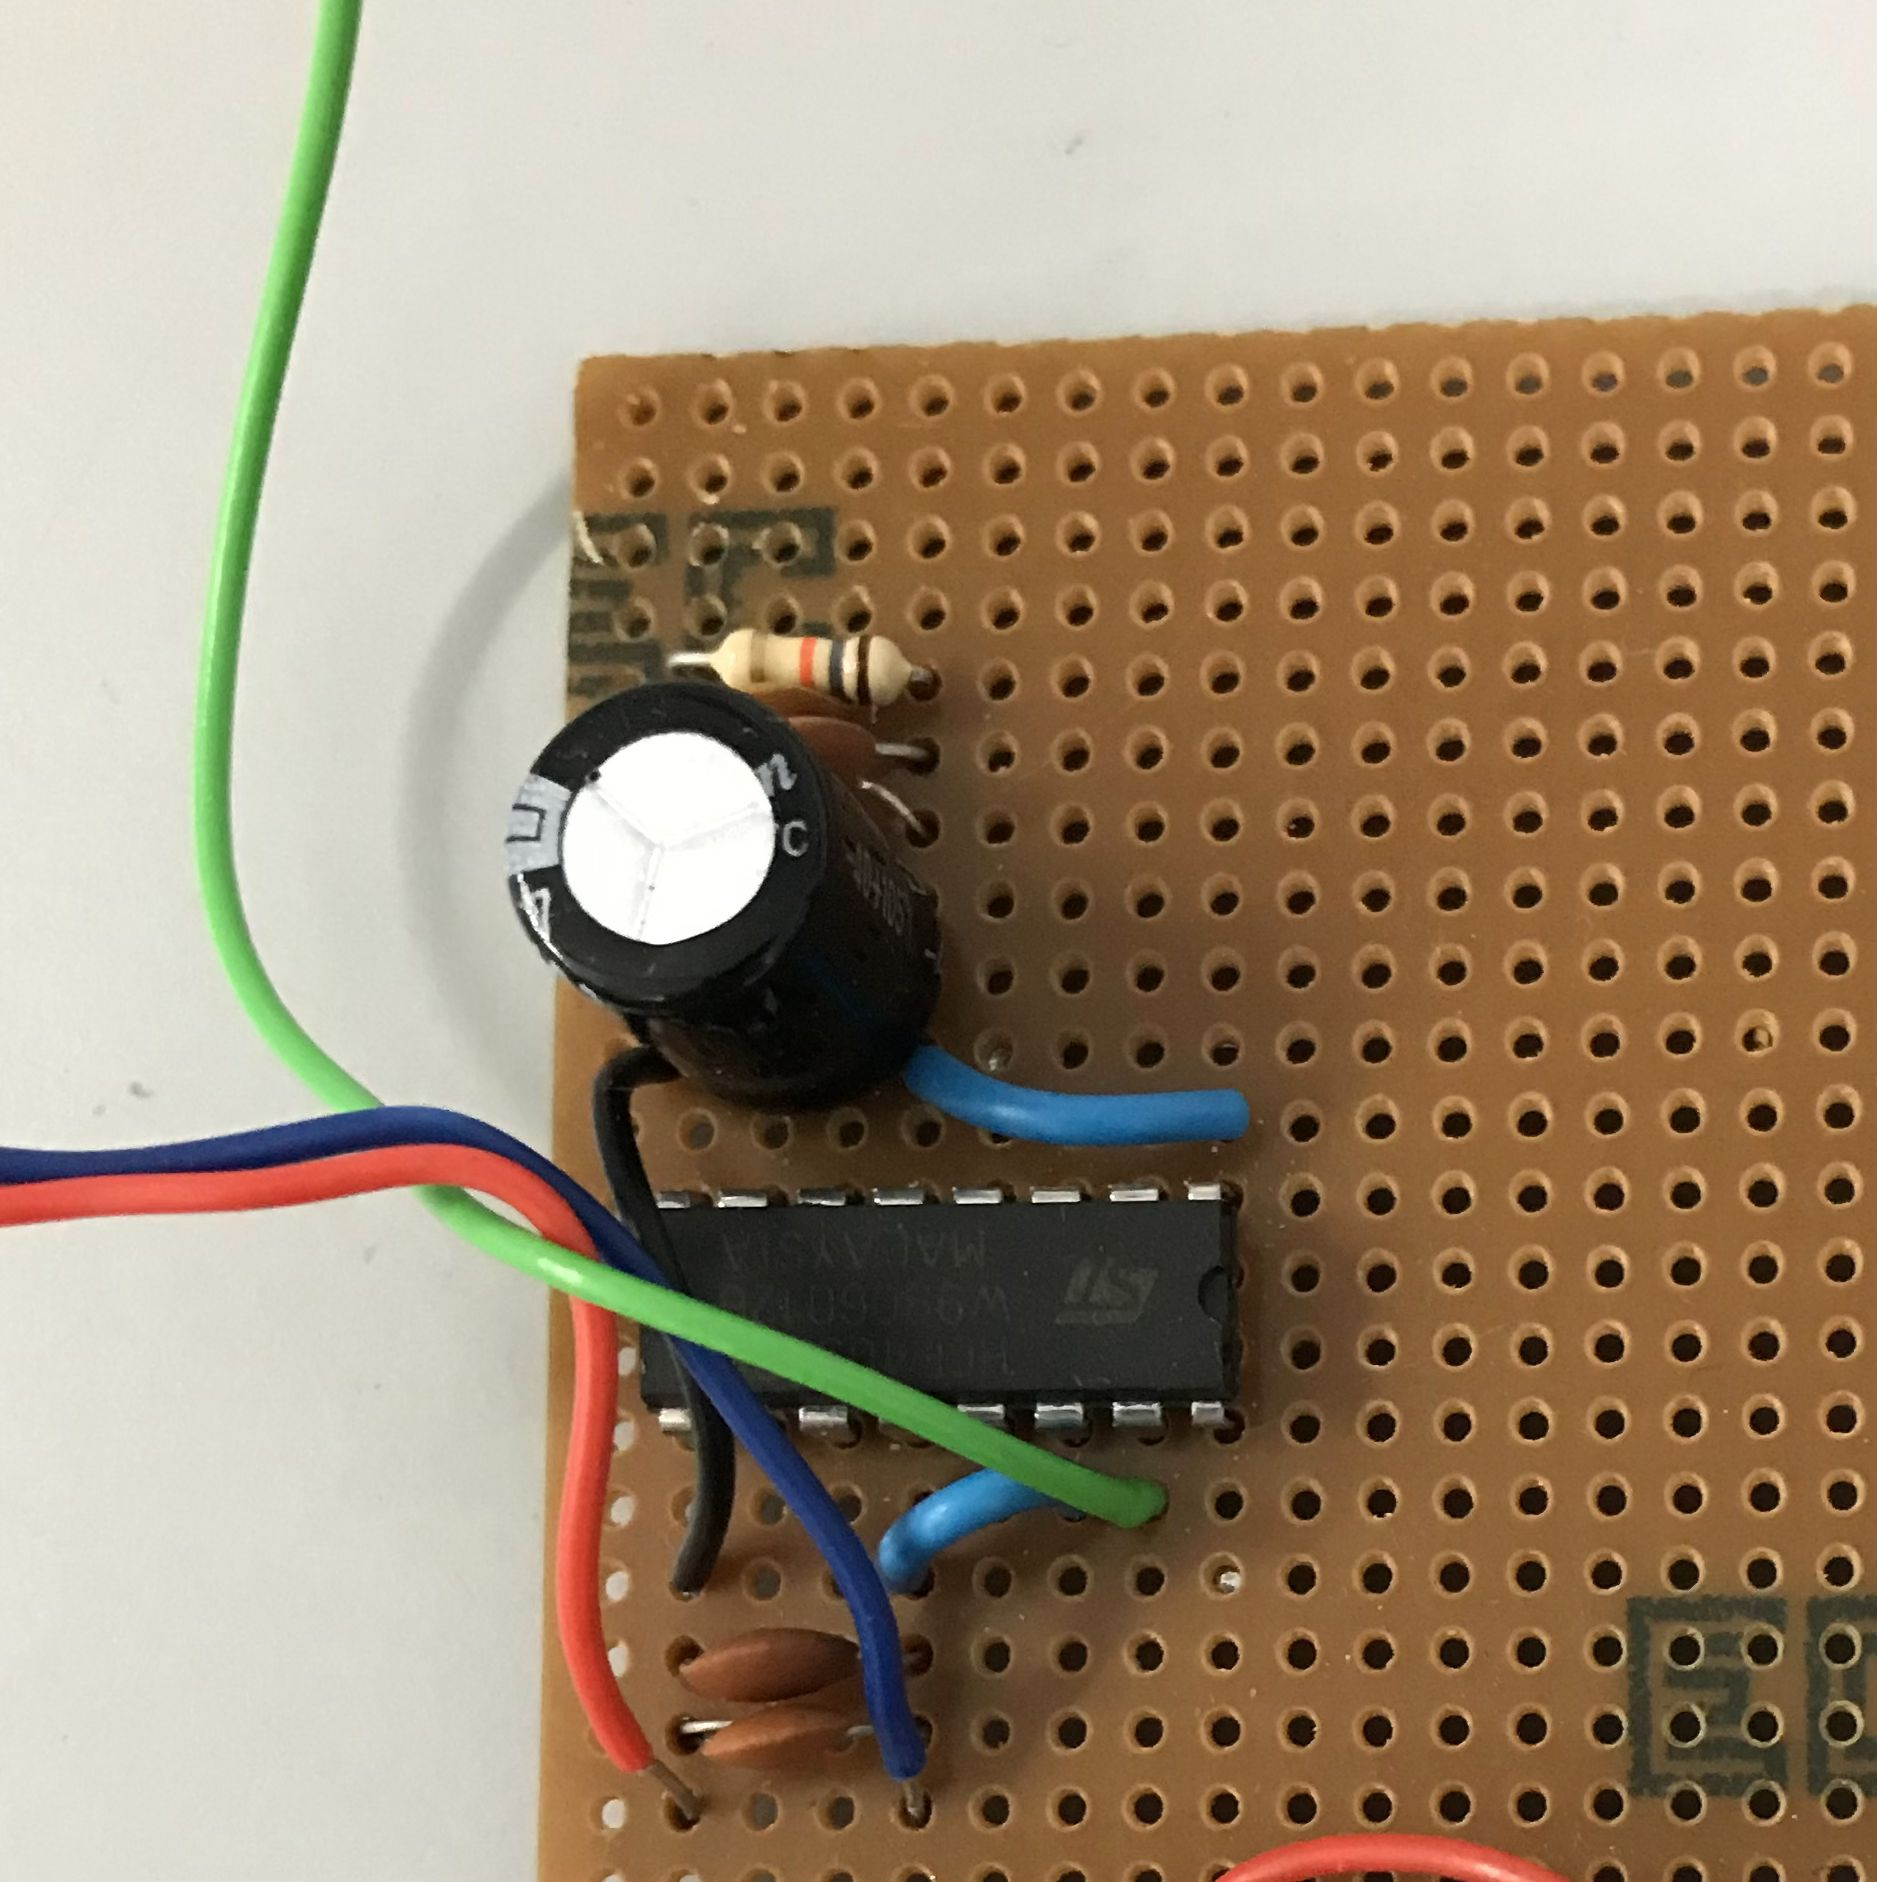Capacitor: (492, 662, 956, 1127)
Resistor: (691, 620, 925, 700)
